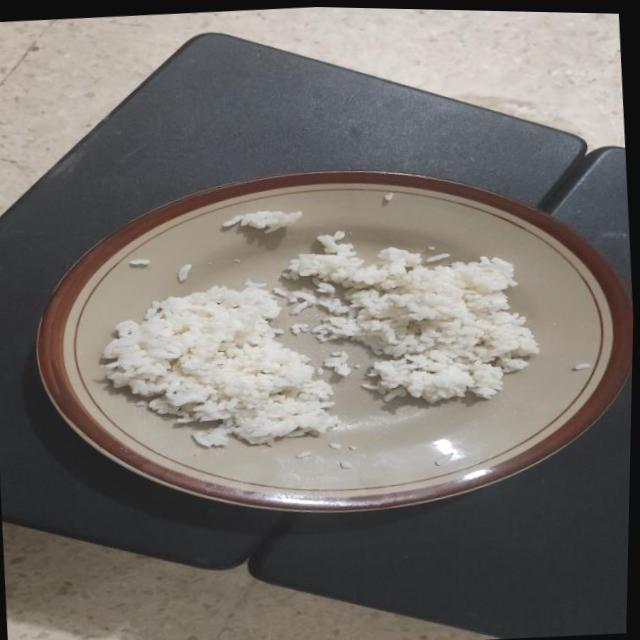nasi_putih: (288, 235, 538, 402), (101, 283, 338, 447)
